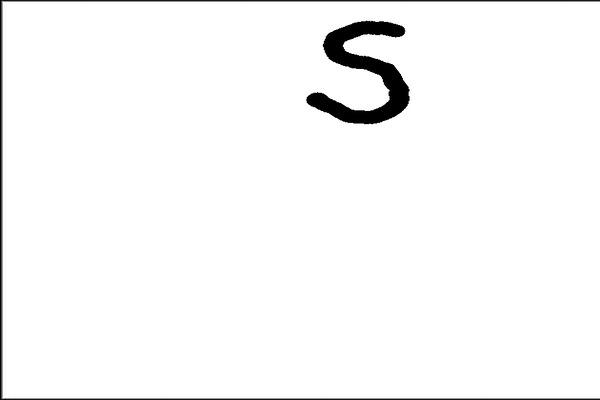S: (300, 12, 417, 135)
